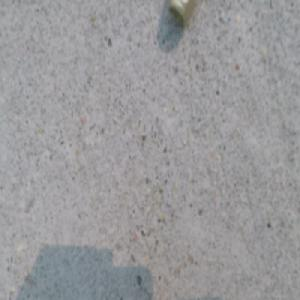BoltNutSet: (169, 1, 194, 23)
